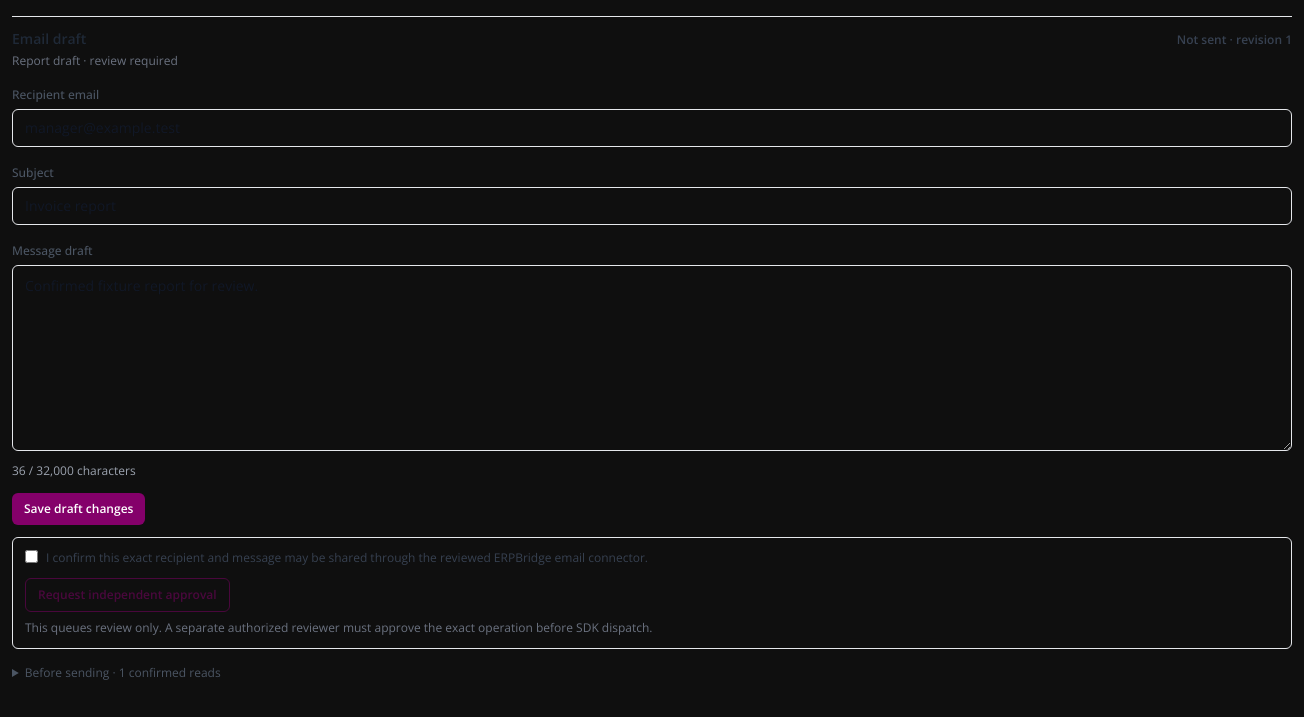
Test: readable recipient/subject/body and not-sent state never offer Send or raw JSON
This screenshot has width=1304, height=717.
Expected: the field labelled "Recipient email" holds "manager@example.test", [12,109,1292,147]
Expected: the text box labelled "Message draft" holds "Confirmed fixture report for review.", [12,265,1292,451]
Click the heading "Before sending · 1 confirmed reads". click: (123, 672)
box: [25,664,221,681]
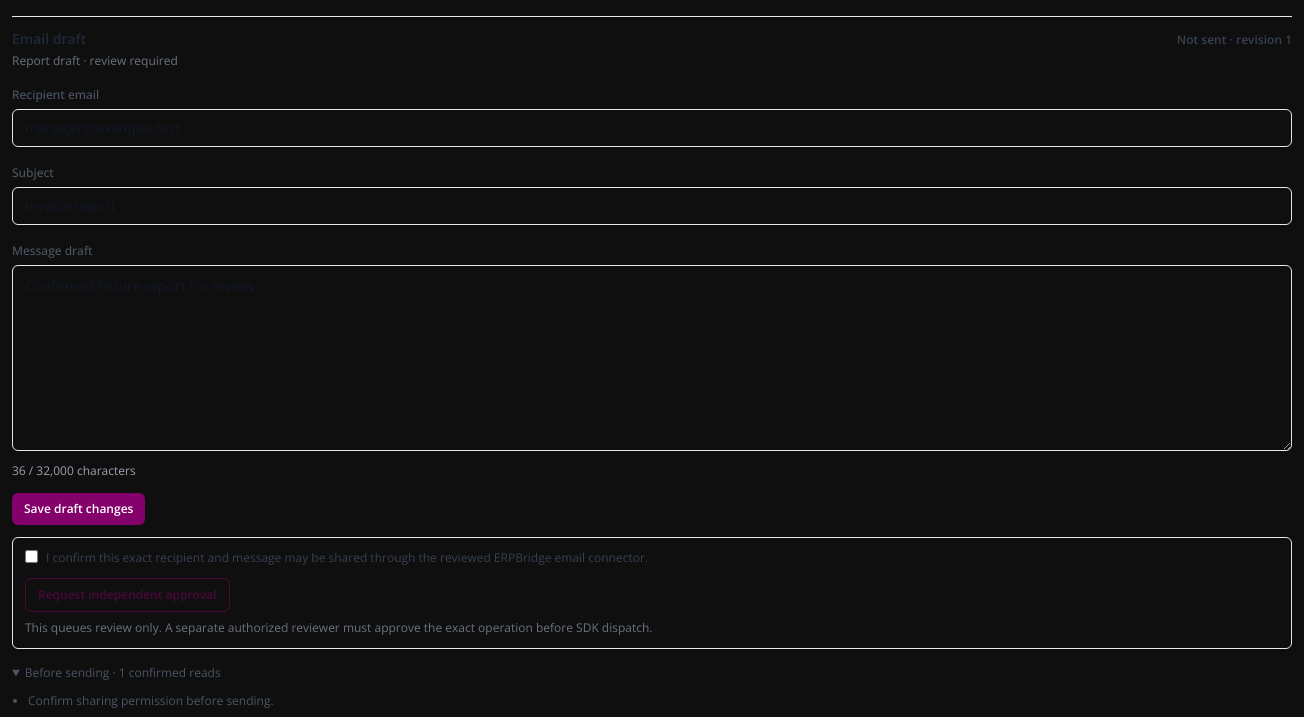
Expected: the list item "Confirm sharing permission before sending." is shown, [28,692,274,709]
